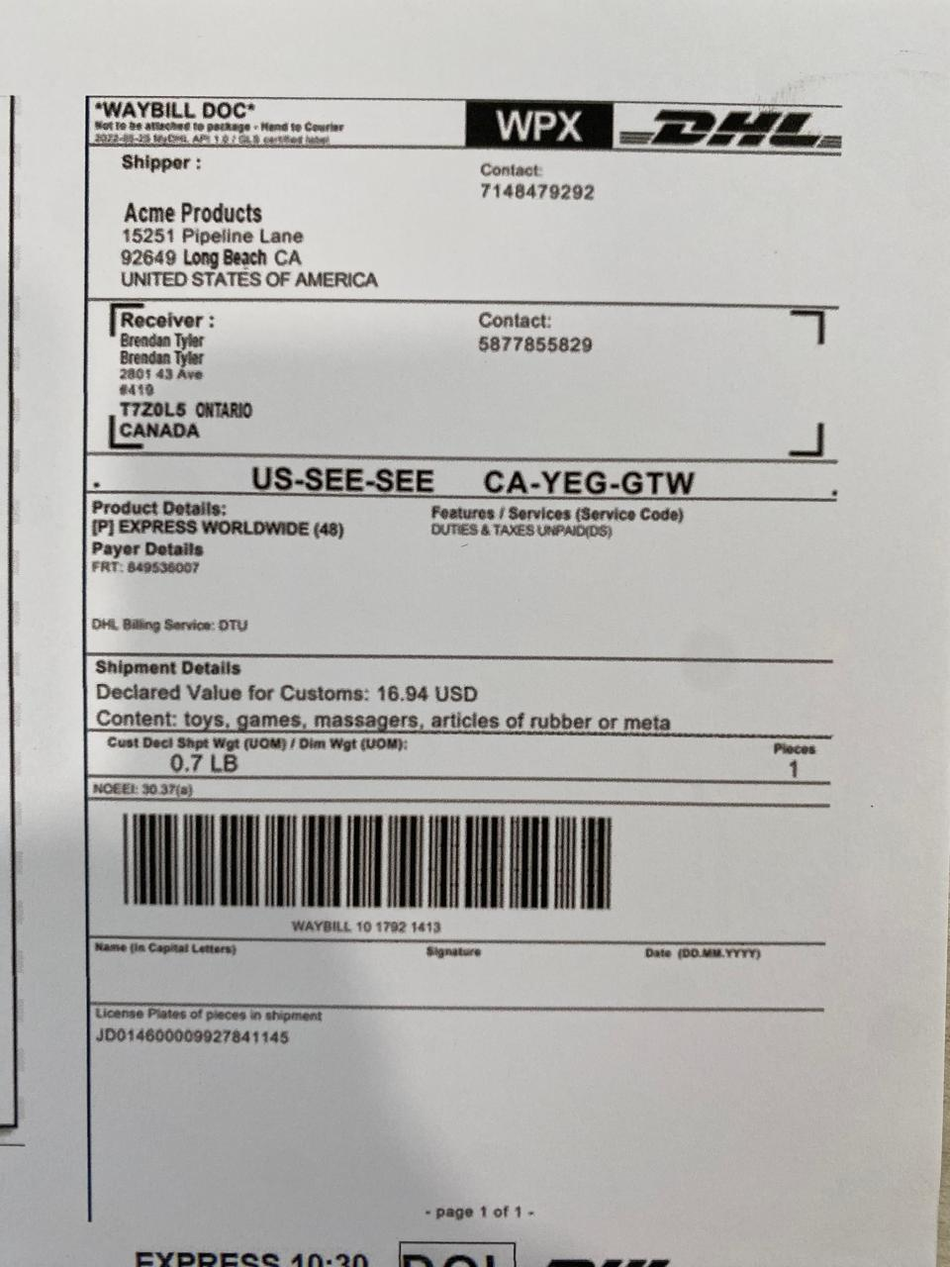waybill_text: (283, 910, 453, 939)
